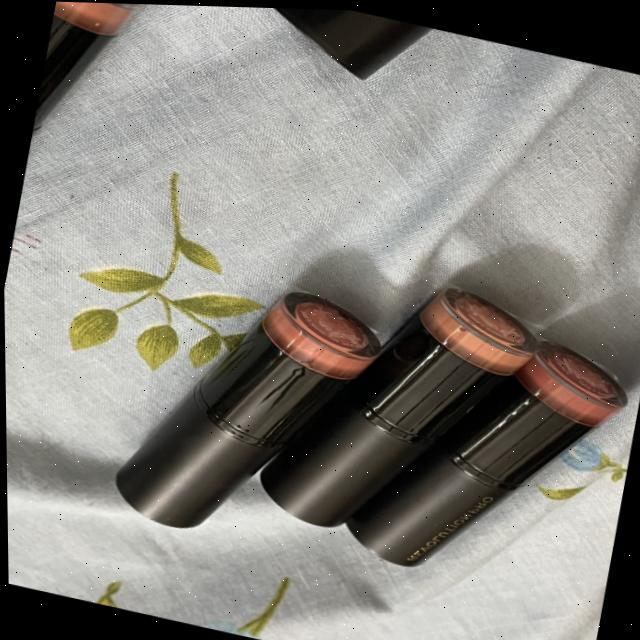lip stick: (74, 199, 640, 627), (243, 239, 640, 612), (52, 245, 390, 579), (233, 240, 535, 564)
